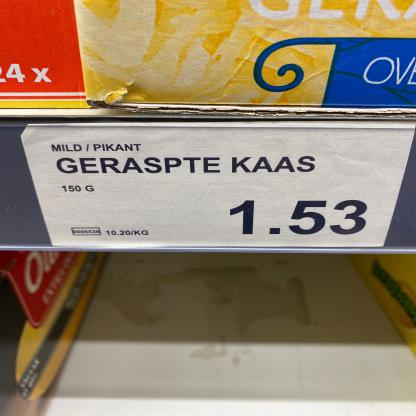prtg: (19, 125, 415, 247)
